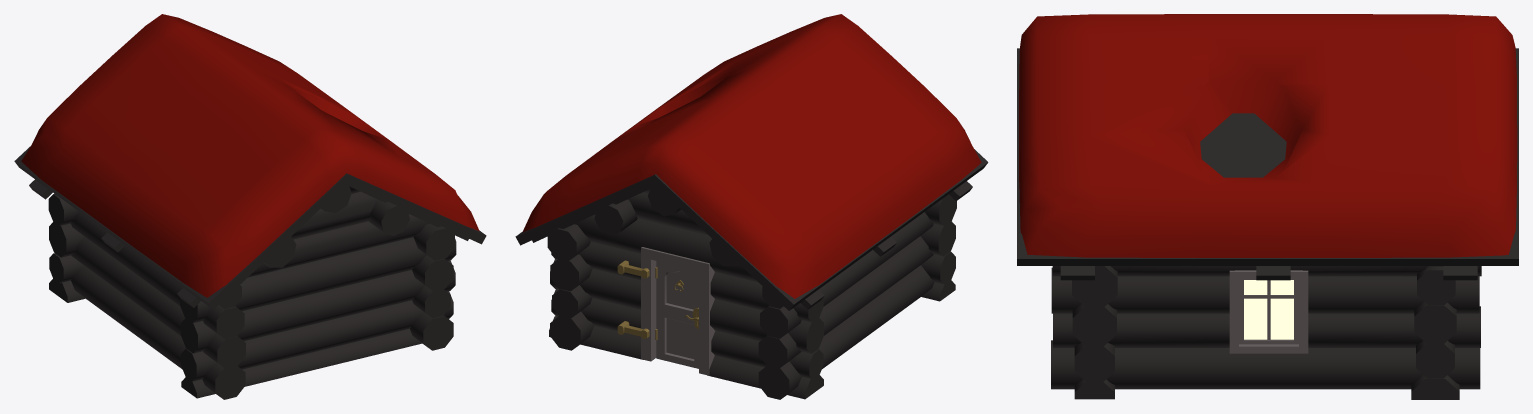
The model's file is evil_house(fixed).fbx.
3 views of the same model, side by side, from view 1: azimuth 30°, elevation 25°; view 2: azimuth 150°, elevation 25°; view 3: azimuth 270°, elevation 25° (orthographic). The views are drawn at different scales.
Visible parts, largest first — view 1: snow_roof.001, House.001; view 2: snow_roof.001, House.001, Door.001; view 3: snow_roof.001, House.001.
Part boxes in pixels (x1=…): snow_roof.001: x1=21, y1=14, x2=479, y2=297; House.001: x1=14, y1=146, x2=486, y2=399; snow_roof.001: x1=522, y1=14, x2=981, y2=298; House.001: x1=515, y1=149, x2=988, y2=399; Door.001: x1=655, y1=261, x2=698, y2=368; snow_roof.001: x1=1019, y1=14, x2=1517, y2=257; House.001: x1=1017, y1=48, x2=1518, y2=399.
Bounding box in the file's own units: 137 × 110 × 164.
